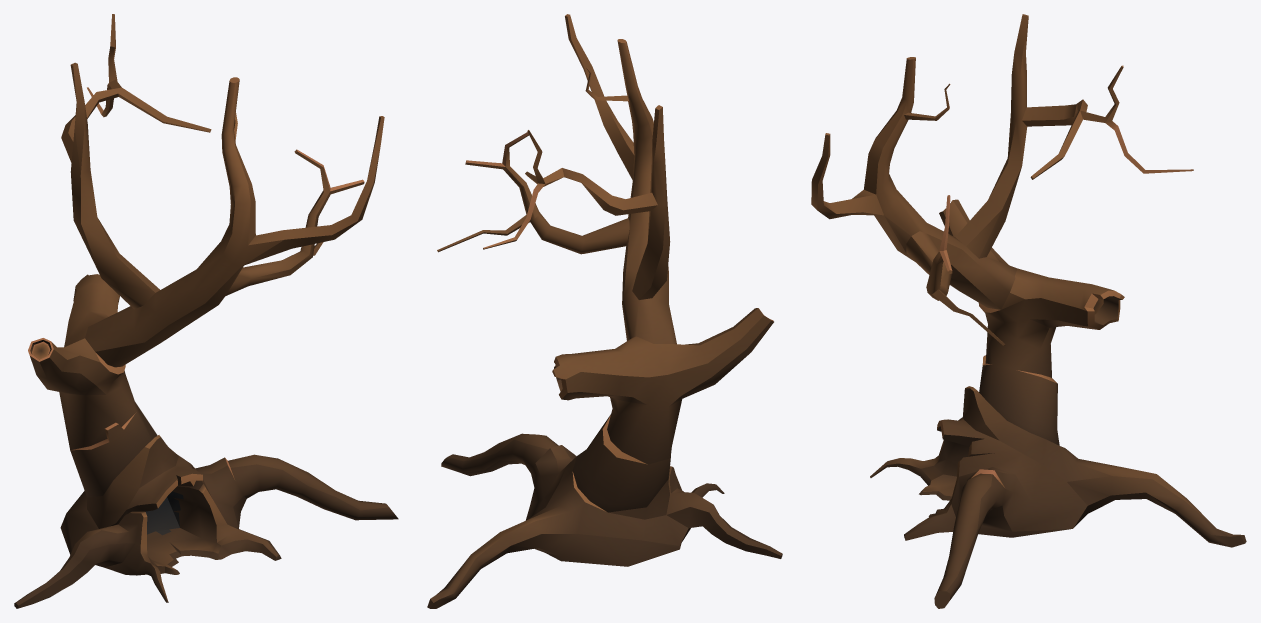
Rendered from Tree_8B.fbx.
3 views of the same model, side by side, from view 1: azimuth 30°, elevation 25°; view 2: azimuth 150°, elevation 25°; view 3: azimuth 270°, elevation 25° (orthographic). The views are drawn at different scales.
Parts seen in each view (by area): view 1: Tree_8B; view 2: Tree_8B; view 3: Tree_8B.
Boxes of the visible parts, x1=… form: Tree_8B: x1=14, y1=14, x2=398, y2=608; Tree_8B: x1=427, y1=14, x2=782, y2=608; Tree_8B: x1=811, y1=14, x2=1246, y2=608.
Bounding box in the file's own units: 1310 × 1666 × 1386.
